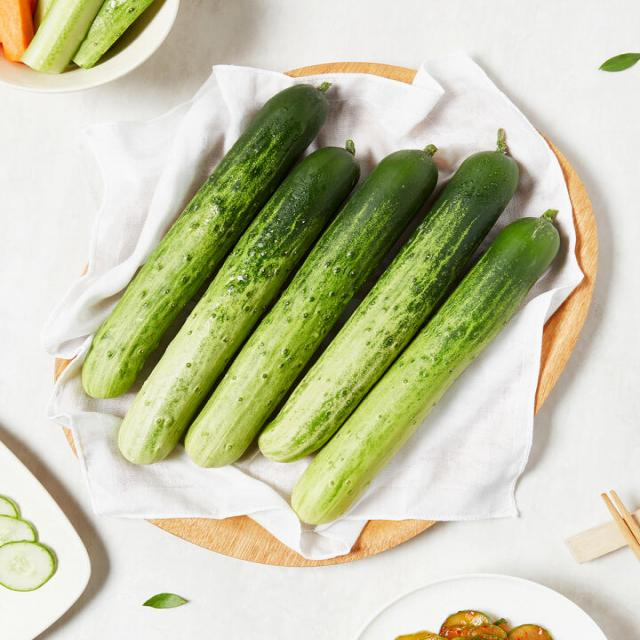cucumber: (55, 76, 550, 531)
